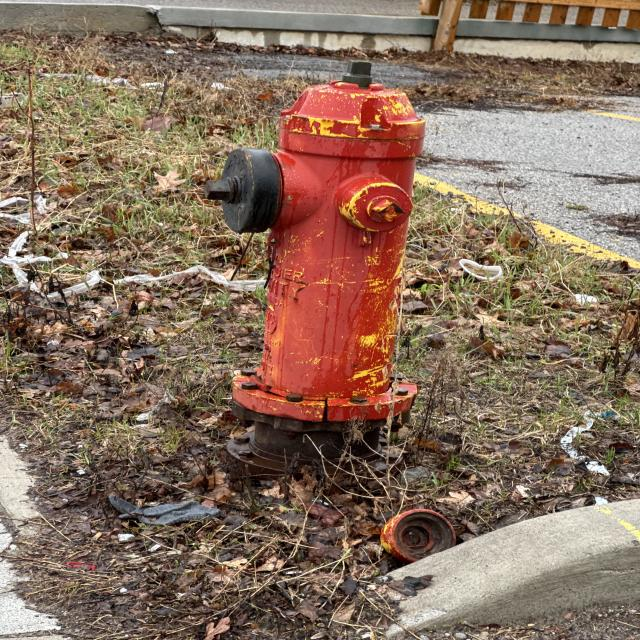Fire hydrant: (203, 60, 431, 422)
